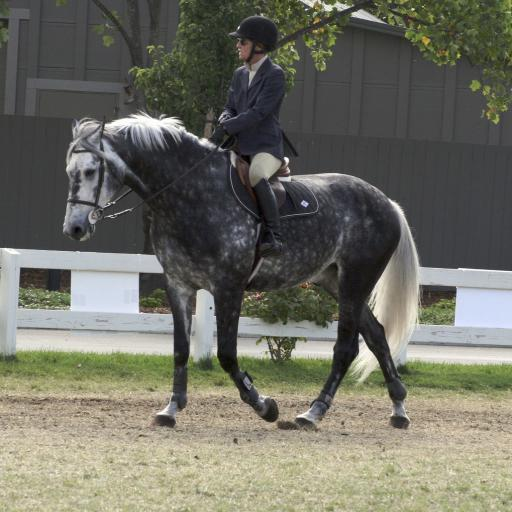horse: (62, 106, 424, 431)
